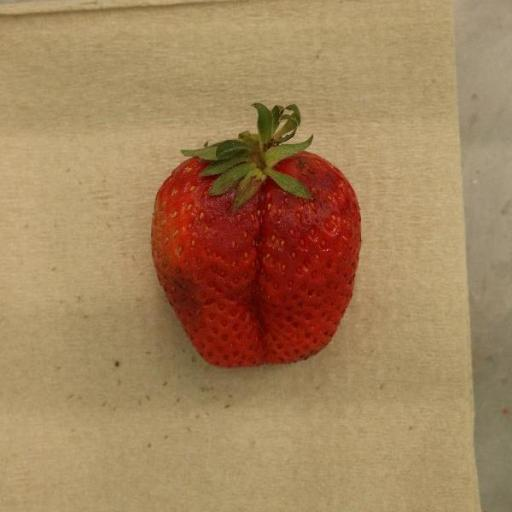Strawberry: (151, 103, 363, 370)
